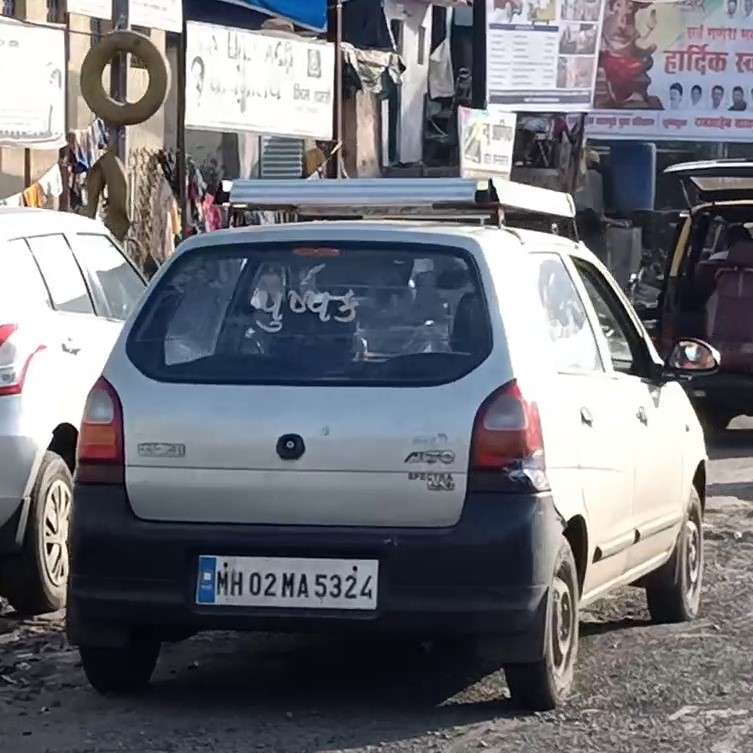MH02MA5324: (196, 555, 378, 610)
